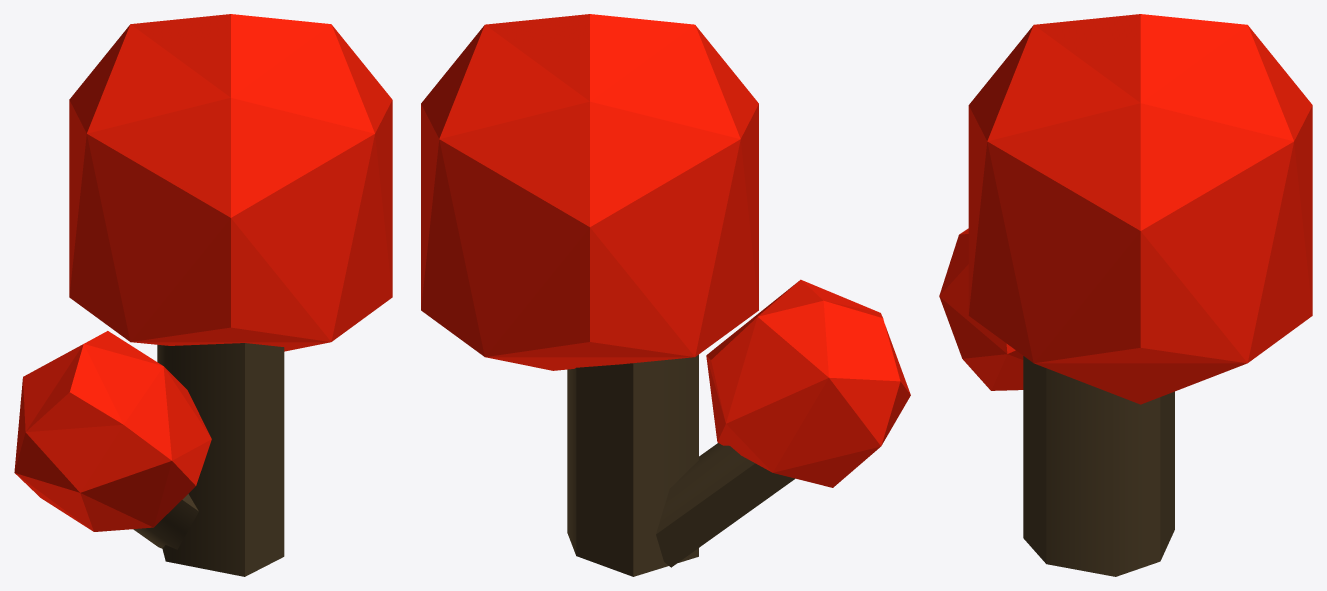
Rendered from MDrzewko_pomaranczowe.FBX.
3 views of the same model, side by side, from view 1: azimuth 30°, elevation 25°; view 2: azimuth 150°, elevation 25°; view 3: azimuth 270°, elevation 25° (orthographic). The views are drawn at different scales.
Parts seen in each view (by area): view 1: GeoSphere001, GeoSphere003, Box001, Box002; view 2: GeoSphere001, GeoSphere003, Box001, Box002; view 3: GeoSphere001, Box001, GeoSphere003.
Part boxes in pixels (<box>): GeoSphere001: <box>69,14,392,351</box>; GeoSphere003: <box>14,331,211,531</box>; Box001: <box>157,343,284,576</box>; Box002: <box>133,494,198,549</box>; GeoSphere001: <box>421,14,758,370</box>; GeoSphere003: <box>706,279,910,487</box>; Box001: <box>567,354,698,576</box>; Box002: <box>656,443,794,567</box>; GeoSphere001: <box>968,14,1312,404</box>; Box001: <box>1023,356,1174,576</box>; GeoSphere003: <box>939,228,1023,390</box>.
Size of the model in its own units: 8.89 by 10.6 by 6.54.
